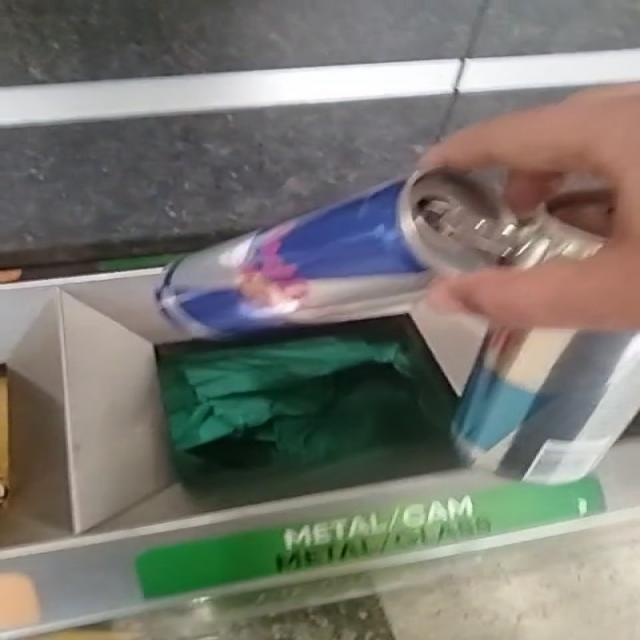bin: (2, 269, 487, 534)
metal: (156, 169, 605, 337)
